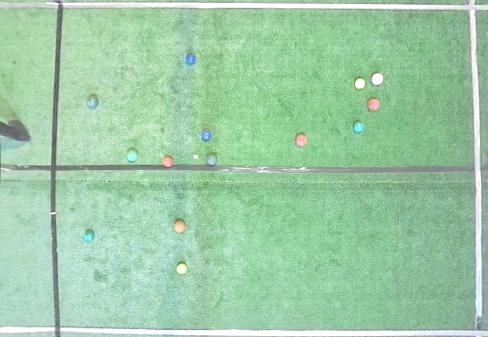blue: (186, 54, 196, 65), (202, 130, 211, 141)
green: (126, 149, 138, 162), (87, 96, 98, 109), (206, 155, 217, 166), (353, 122, 364, 132), (84, 231, 94, 242)
red: (367, 98, 380, 111), (295, 134, 308, 146), (371, 73, 383, 85), (174, 221, 186, 233), (163, 157, 173, 167)
vline: (1, 0, 64, 336), (467, 0, 487, 337)
white: (193, 154, 198, 159)
yellow: (176, 264, 187, 274), (355, 79, 365, 89)
